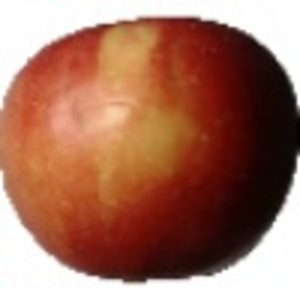maçã braeburn: (1, 16, 300, 281)
